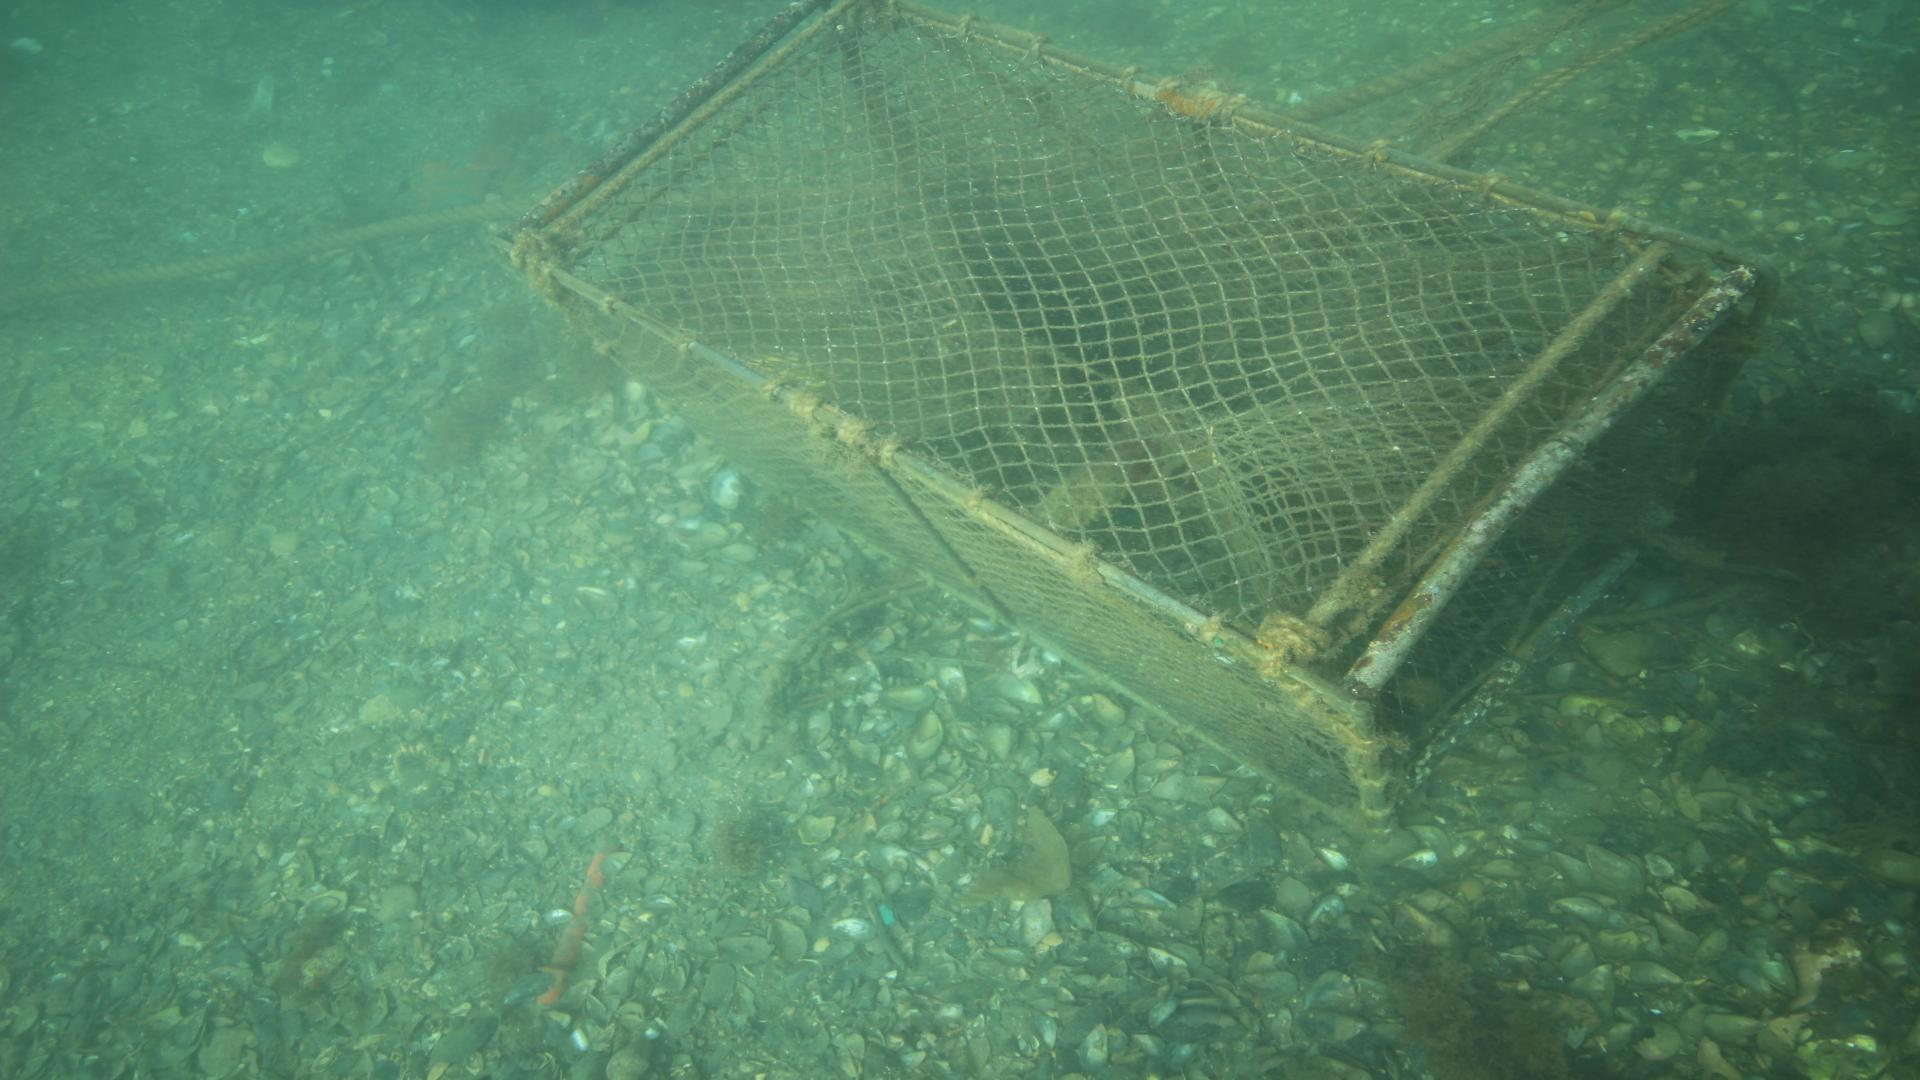bundle of ropes: (1265, 0, 1745, 167)
rectangular fish trap: (483, 0, 1784, 843)
rope: (0, 200, 527, 302)
